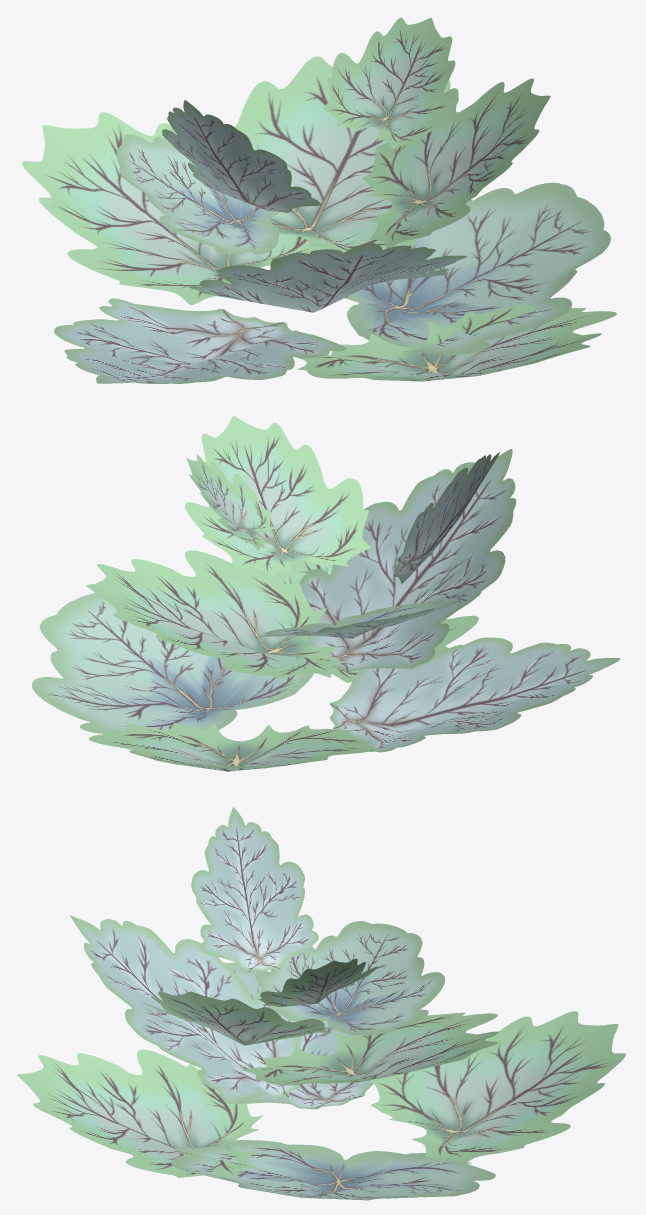
File: bush_3_petit.fbx
3 renders of one model, top to bottom at view 1: azimuth 30°, elevation 25°; view 2: azimuth 150°, elevation 25°; view 3: azimuth 270°, elevation 25°, orthographic. The views are drawn at different scales.
Visible parts, largest first — view 1: feuillage_3_petit; view 2: feuillage_3_petit; view 3: feuillage_3_petit.
Boxes of the visible parts, box(x1,y1,x2,y2) form: feuillage_3_petit: box(22, 17, 616, 383); feuillage_3_petit: box(32, 416, 620, 771); feuillage_3_petit: box(17, 807, 625, 1200).
Size of the model in its own units: 151 by 80.46 by 165.
